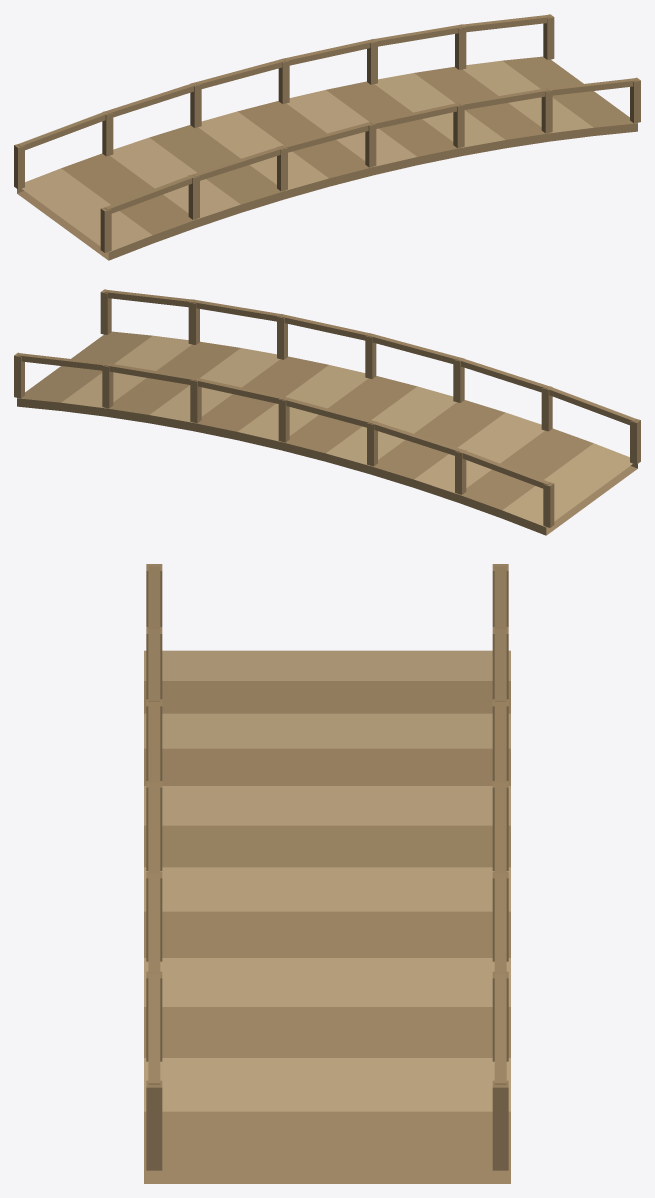
Rendered from river_bridge.glb.
The picture shows the model from 3 angles, top to bottom: view 1: azimuth 30°, elevation 25°; view 2: azimuth 150°, elevation 25°; view 3: azimuth 270°, elevation 25°; orthographic projection. The views are drawn at different scales.
Parts seen in each view (by area): view 1: RiverBridgeDeck-col, RiverBridgeRails; view 2: RiverBridgeDeck-col, RiverBridgeRails; view 3: RiverBridgeDeck-col, RiverBridgeRails.
Boxes of the visible parts, bbox=[...] form: RiverBridgeDeck-col: bbox=[17, 56, 637, 260]; RiverBridgeRails: bbox=[14, 14, 640, 252]; RiverBridgeDeck-col: bbox=[17, 331, 637, 535]; RiverBridgeRails: bbox=[14, 289, 640, 527]; RiverBridgeDeck-col: bbox=[144, 650, 510, 1183]; RiverBridgeRails: bbox=[146, 564, 508, 1170].
Size of the model in its own units: 12.16 by 1.54 by 3.6.
